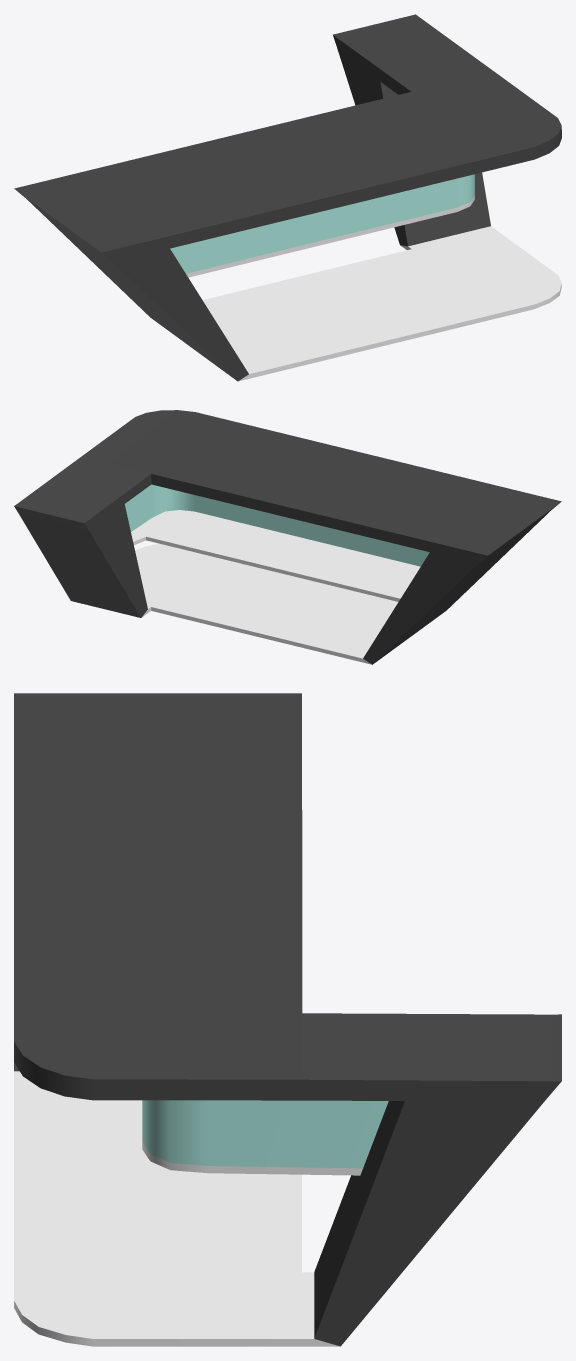
File: Bureau.fbx
The picture shows the model from 3 angles, top to bottom: view 1: azimuth 30°, elevation 25°; view 2: azimuth 150°, elevation 25°; view 3: azimuth 270°, elevation 25°; orthographic projection. The views are drawn at different scales.
Visible parts, largest first — view 1: polySurface1; view 2: polySurface1; view 3: polySurface1.
Boxes of the visible parts, x1=… form: polySurface1: x1=14, y1=14, x2=561, y2=381; polySurface1: x1=14, y1=410, x2=561, y2=664; polySurface1: x1=14, y1=693, x2=561, y2=1346.
Bounding box in the file's own units: 225 × 72.63 × 135.
1 material, 1 textured.
